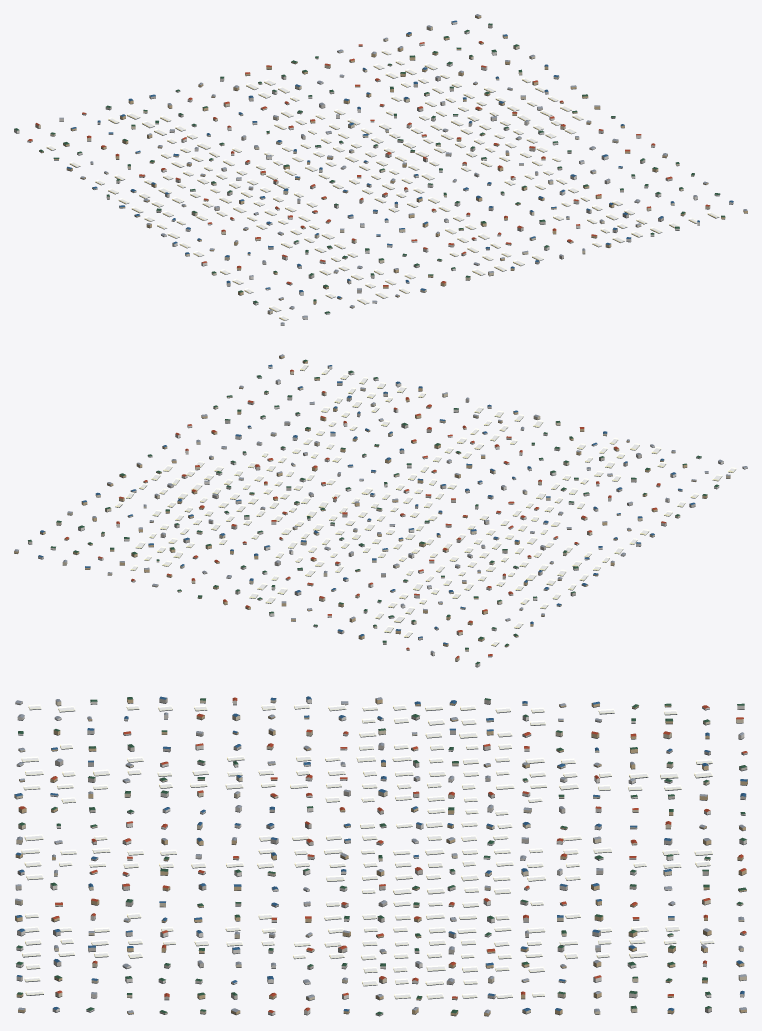
Rendered from buildings_T_E03_N02.glb.
3 views of the same model, one above another, from view 1: azimuth 30°, elevation 25°; view 2: azimuth 150°, elevation 25°; view 3: azimuth 270°, elevation 25° (orthographic). The views are drawn at different scales.
Parts seen in each view (by area): view 1: T_E03_N02_roofs_agri_greenhouse_arch, T_E03_N02_slope_seating_foundations, T_E03_N02_walls_wall_french_ochre_villa, T_E03_N02_walls_wall_modern_warm_white, T_E03_N02_walls_wall_pastel_sand_gray, T_E03_N02_walls_wall_dalat_cream_stucco, T_E03_N02_roofs_roof_pine_green_hip, T_E03_N02_roofs_roof_zinc_silver_gable, T_E03_N02_roofs_roof_highland_blue_gable, T_E03_N02_roofs_roof_terracotta_gable; view 2: T_E03_N02_roofs_agri_greenhouse_arch, T_E03_N02_slope_seating_foundations, T_E03_N02_walls_wall_french_ochre_villa, T_E03_N02_walls_wall_modern_warm_white, T_E03_N02_walls_wall_pastel_sand_gray, T_E03_N02_walls_wall_dalat_cream_stucco, T_E03_N02_roofs_roof_pine_green_hip, T_E03_N02_roofs_roof_zinc_silver_gable, T_E03_N02_roofs_roof_highland_blue_gable, T_E03_N02_roofs_roof_terracotta_gable; view 3: T_E03_N02_roofs_agri_greenhouse_arch, T_E03_N02_slope_seating_foundations, T_E03_N02_walls_wall_french_ochre_villa, T_E03_N02_walls_wall_modern_warm_white, T_E03_N02_walls_wall_pastel_sand_gray, T_E03_N02_walls_wall_dalat_cream_stucco, T_E03_N02_roofs_roof_pine_green_hip, T_E03_N02_roofs_roof_zinc_silver_gable, T_E03_N02_roofs_roof_highland_blue_gable, T_E03_N02_roofs_roof_terracotta_gable.
Boxes of the visible parts, x1,y1,x2,y2 form: T_E03_N02_roofs_agri_greenhouse_arch: (46,49,719,320); T_E03_N02_slope_seating_foundations: (14,17,747,325); T_E03_N02_walls_wall_french_ochre_villa: (39,15,747,304); T_E03_N02_walls_wall_modern_warm_white: (14,21,733,325); T_E03_N02_walls_wall_pastel_sand_gray: (82,25,672,292); T_E03_N02_walls_wall_dalat_cream_stucco: (35,26,710,314); T_E03_N02_roofs_roof_pine_green_hip: (14,23,725,313); T_E03_N02_roofs_roof_zinc_silver_gable: (59,14,747,324); T_E03_N02_roofs_roof_highland_blue_gable: (67,20,733,298); T_E03_N02_roofs_roof_terracotta_gable: (28,41,709,286); T_E03_N02_roofs_agri_greenhouse_arch: (115,363,736,645); T_E03_N02_slope_seating_foundations: (14,357,747,667); T_E03_N02_walls_wall_french_ochre_villa: (14,355,707,646); T_E03_N02_walls_wall_modern_warm_white: (38,365,747,666); T_E03_N02_walls_wall_pastel_sand_gray: (28,382,695,650); T_E03_N02_walls_wall_dalat_cream_stucco: (56,371,730,661); T_E03_N02_roofs_roof_pine_green_hip: (28,359,718,664); T_E03_N02_roofs_roof_zinc_silver_gable: (14,354,747,652); T_E03_N02_roofs_roof_highland_blue_gable: (38,364,695,644); T_E03_N02_roofs_roof_terracotta_gable: (64,369,665,658); T_E03_N02_roofs_agri_greenhouse_arch: (21,704,714,998); T_E03_N02_slope_seating_foundations: (14,701,747,1016); T_E03_N02_walls_wall_french_ochre_villa: (15,698,747,1015); T_E03_N02_walls_wall_modern_warm_white: (15,698,746,1015); T_E03_N02_walls_wall_pastel_sand_gray: (15,698,747,1015); T_E03_N02_walls_wall_dalat_cream_stucco: (14,699,746,1014); T_E03_N02_roofs_roof_pine_green_hip: (16,697,746,1014); T_E03_N02_roofs_roof_zinc_silver_gable: (15,697,746,1013); T_E03_N02_roofs_roof_highland_blue_gable: (14,696,747,1011); T_E03_N02_roofs_roof_terracotta_gable: (19,697,747,1012).
Bounding box in the file's own units: 1790 × 29.78 × 1791.
